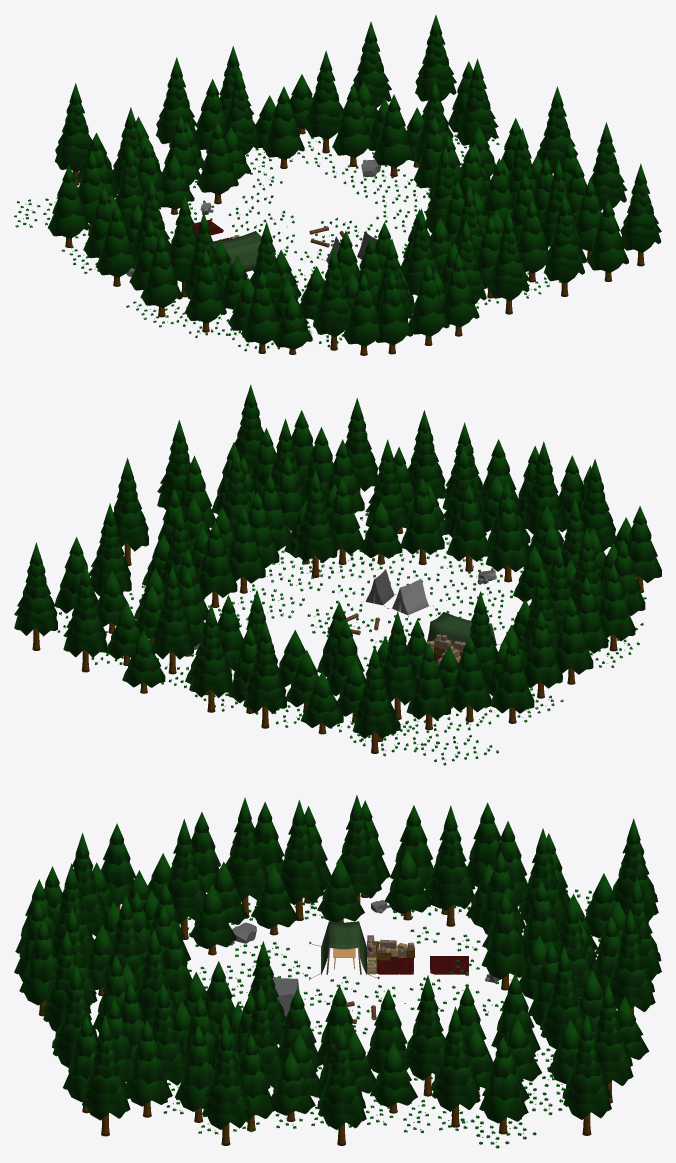
The model's file is camp_site_ Main menu.fbx.
3 views of the same model, one above another, from view 1: azimuth 30°, elevation 25°; view 2: azimuth 150°, elevation 25°; view 3: azimuth 270°, elevation 25° (orthographic). The views are drawn at different scales.
Parts seen in each view (by area): view 1: PineTreeLarge.026, Grass, Cottage; view 2: PineTreeLarge.026, Grass, Cottage, Tent_1, Tent_2; view 3: PineTreeLarge.026, Grass, Cottage, Carpet-2, rock.002, Carpet.
Boxes of the visible parts, x1=… form: PineTreeLarge.026: x1=48, y1=15, x2=661, y2=355; Grass: x1=14, y1=135, x2=561, y2=351; Cottage: x1=211, y1=231, x2=261, y2=271; PineTreeLarge.026: x1=14, y1=384, x2=661, y2=753; Grass: x1=57, y1=513, x2=646, y2=765; Cottage: x1=427, y1=612, x2=500, y2=646; Tent_1: x1=387, y1=578, x2=433, y2=616; Tent_2: x1=361, y1=569, x2=397, y2=606; PineTreeLarge.026: x1=14, y1=795, x2=661, y2=1145; Grass: x1=97, y1=889, x2=600, y2=1148; Cottage: x1=309, y1=921, x2=379, y2=980; Carpet-2: x1=430, y1=956, x2=468, y2=974; rock.002: x1=232, y1=900, x2=499, y2=1061; Carpet: x1=376, y1=956, x2=413, y2=974.
Size of what is drawn, in the model's own units: 4943 by 1091 by 5036.
